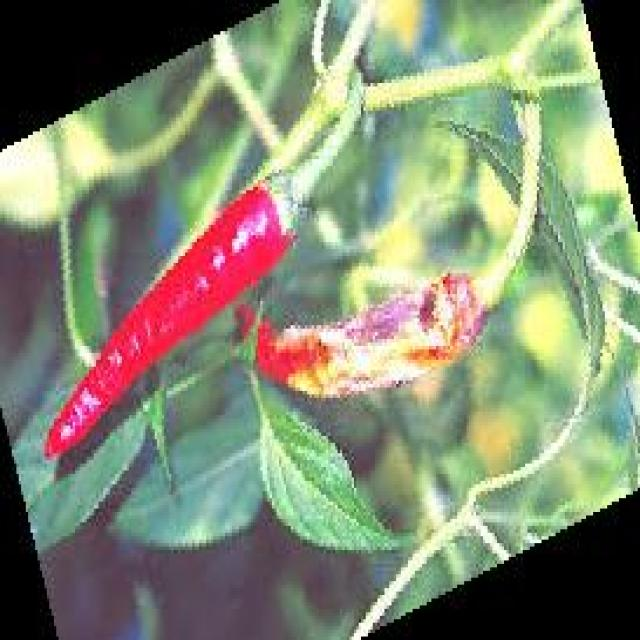Chili_anthracnose: (240, 314, 491, 410)
